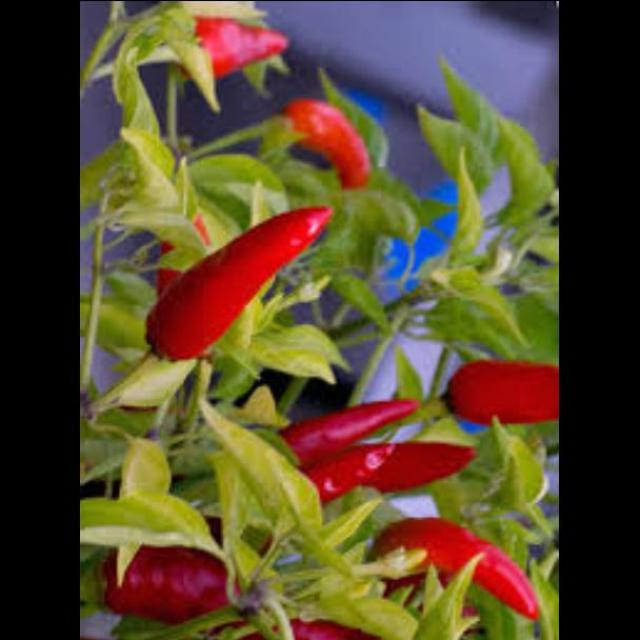hot pepper: (137, 202, 339, 370), (372, 512, 548, 628), (271, 386, 424, 474), (95, 550, 254, 622), (281, 92, 391, 192), (184, 10, 298, 87), (444, 355, 560, 428), (290, 437, 406, 502), (364, 432, 486, 490)
